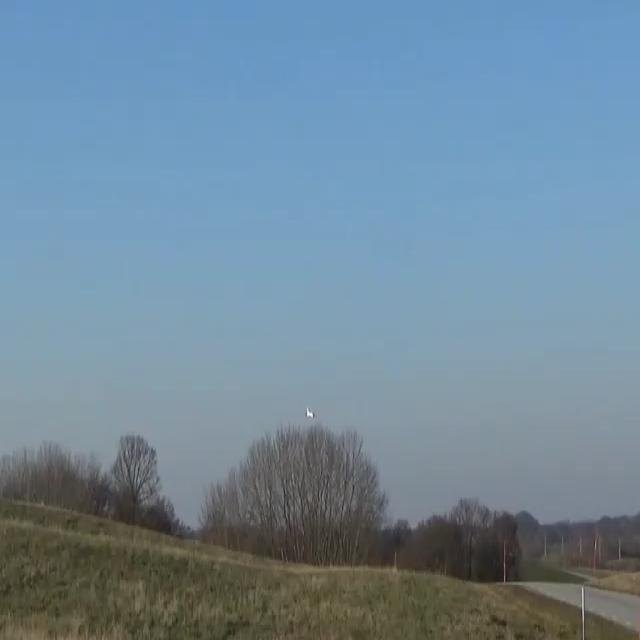AirPlane: (294, 398, 324, 424)
